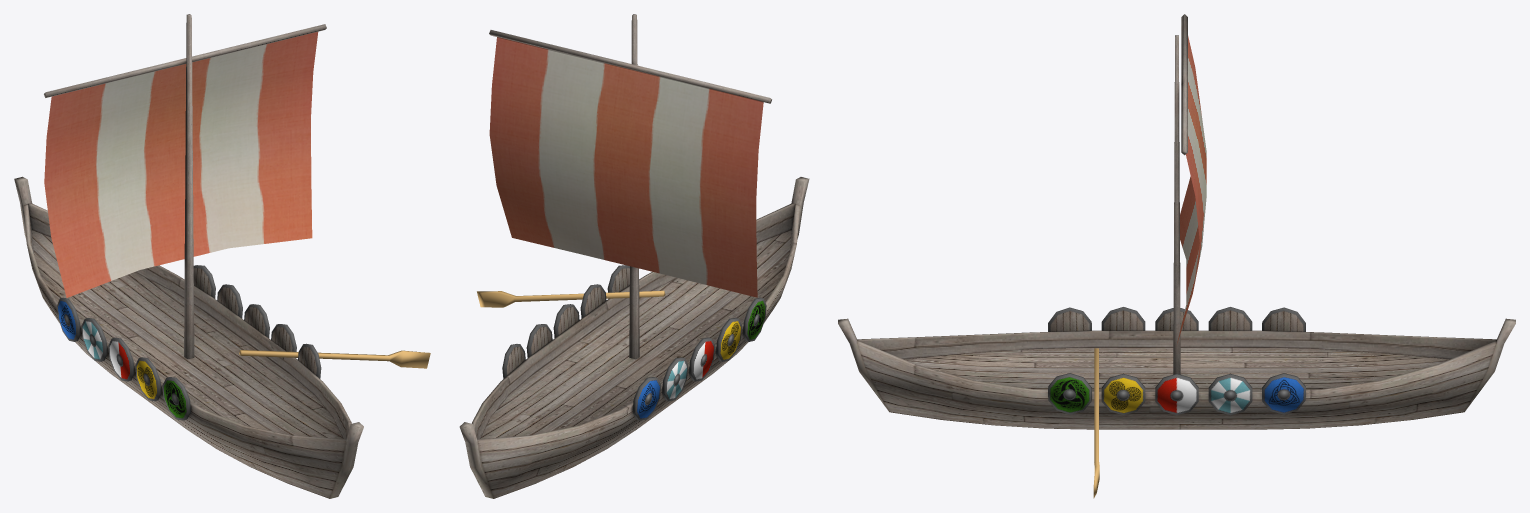
File: ship.dae
3 views of the same model, side by side, from view 1: azimuth 30°, elevation 25°; view 2: azimuth 150°, elevation 25°; view 3: azimuth 270°, elevation 25° (orthographic).
Parts seen in each view (by area): view 1: Ship, Oars; view 2: Ship, Oars; view 3: Ship, Oars.
Boxes of the visible parts, x1,y1,x2,y2 form: Ship: (14, 14, 363, 498); Oars: (239, 350, 430, 368); Ship: (459, 14, 809, 498); Oars: (477, 290, 665, 307); Ship: (838, 14, 1515, 429); Oars: (1093, 348, 1099, 498).
Size of the model in its own units: 5.09 by 8.87 by 5.4.
Materials: 2 (2 with a texture image).
